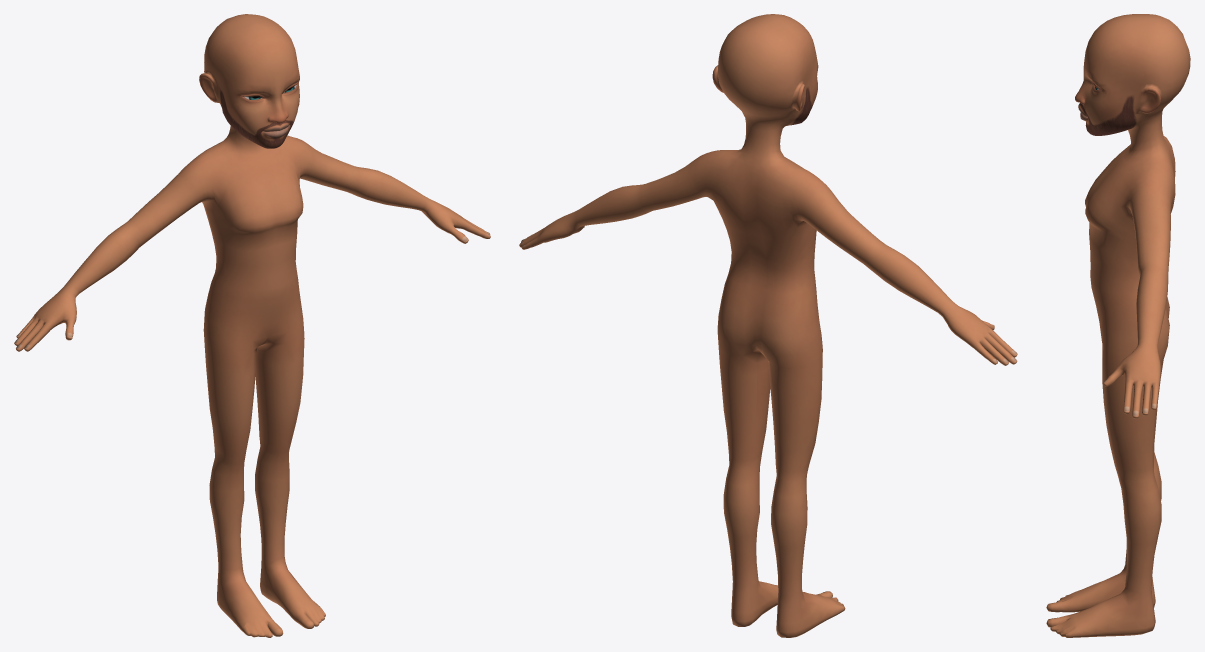
Rendered from frame_0079.glb.
3 views of the same model, side by side, from view 1: azimuth 30°, elevation 25°; view 2: azimuth 150°, elevation 25°; view 3: azimuth 270°, elevation 25° (orthographic). The views are drawn at different scales.
Visible parts, largest first — view 1: frame_0079_head_geo; view 2: frame_0079_head_geo; view 3: frame_0079_head_geo.
Part boxes in pixels (x1=…): frame_0079_head_geo: x1=14, y1=14, x2=490, y2=637; frame_0079_head_geo: x1=519, y1=14, x2=1017, y2=637; frame_0079_head_geo: x1=1046, y1=14, x2=1190, y2=637.
Size of the model in its own units: 1.28 by 1.5 by 0.3253.
Materials: 3 (3 with a texture image).
